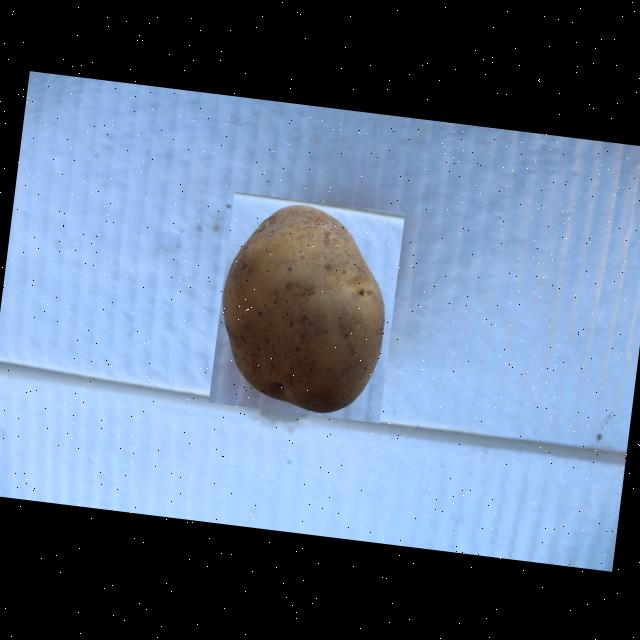Diseased-fungal potato: (207, 190, 404, 422)
